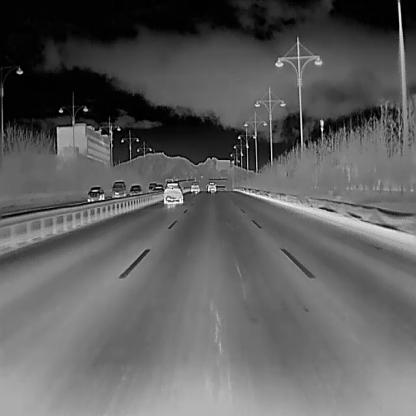car: (162, 180, 182, 204), (85, 186, 104, 202), (110, 180, 126, 198), (128, 184, 142, 194), (189, 182, 200, 194), (206, 181, 216, 193), (147, 181, 156, 192), (154, 182, 164, 191)
